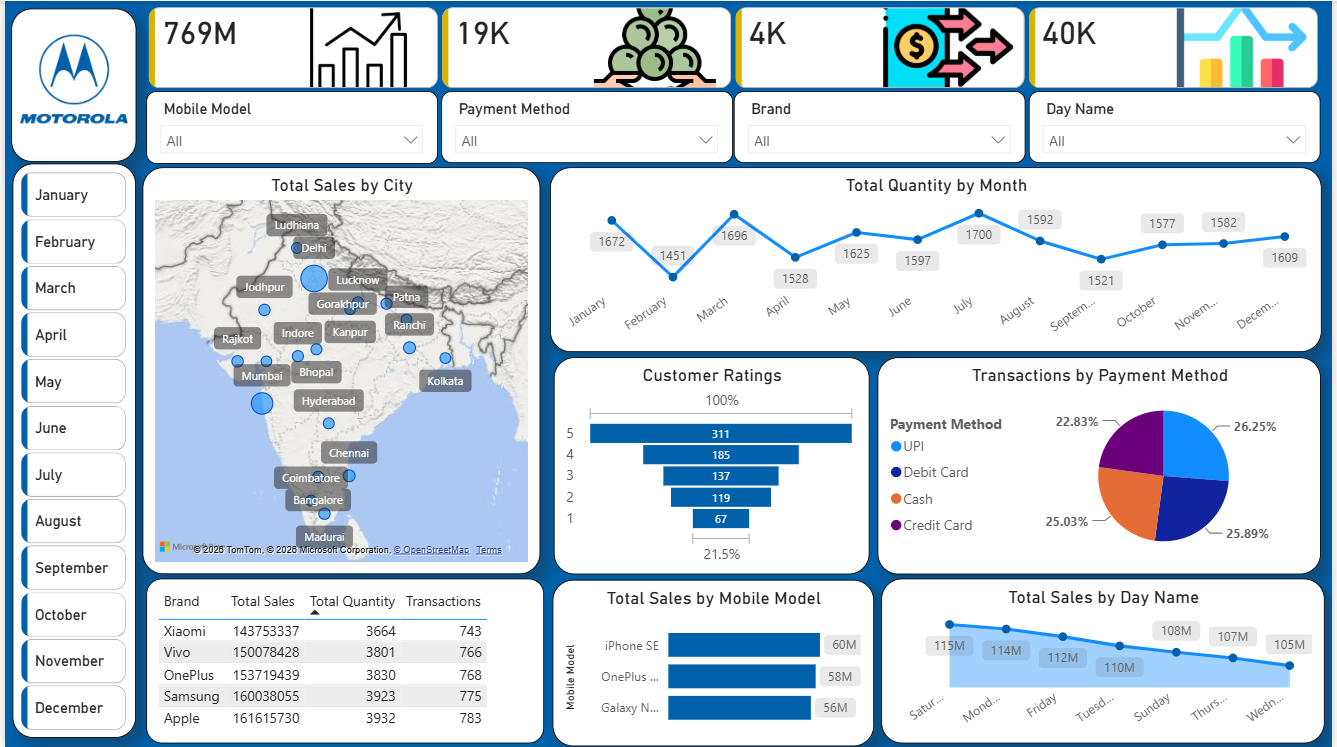

This screenshot's page, from the dashboard's own definition file:
{"tool":"powerbi","page":{"name":"Page 1","canvas":[1280,720],"ordinal":0},"visuals":[{"type":"shape","box":[5.5,6.9,120.8,148.2],"z":0},{"type":"image","box":[9.6,16.5,113.9,116.6],"z":1000},{"type":"shape","box":[6.9,156.4,119.4,554.4],"z":2000},{"type":"advancedSlicerVisual","fields":{"Values":["Sales_Data.Date.Variation.Date Hierarchy.Month"]},"box":[11,160.5,111.1,548.9],"z":3000},{"type":"cardVisual","fields":{"Data":["Sales_Data.Total Sales","Sales_Data.Total Quantity","Sales_Data.Transactions","Sales_Data.Average"]},"box":[134,5.6,1140.1,83.7],"z":4000},{"type":"map","fields":{"Category":["Sales_Data.City"],"Size":["Sales_Data.Total Sales"]},"box":[132.9,160.8,384.1,393.1],"z":5000},{"type":"lineChart","fields":{"Y":["Sales_Data.Total Quantity"],"Category":["Sales_Data.Date.Variation.Date Hierarchy.Month","Sales_Data.Date.Variation.Date Hierarchy.Day"]},"box":[525.9,160.8,744.8,178.7],"z":6000},{"type":"clusteredBarChart","fields":{"Category":["Sales_Data.Mobile Model"],"Y":["Sales_Data.Total Sales"]},"box":[528.3,558.5,310.1,160.5],"z":7000},{"type":"pieChart","fields":{"Category":["Sales_Data.Payment Method"],"Y":["Sales_Data.Transactions"]},"box":[842.5,344.4,428.1,209.9],"z":8000},{"type":"funnel","title":"Customer Ratings","fields":{"Category":["Sales_Data.Customer Ratings"],"Y":["CountNonNull(Sales_Data.Customer Ratings)"]},"box":[529.7,344.4,304.6,209.9],"z":9000},{"type":"areaChart","fields":{"Category":["Sales_Data.Day Name"],"Y":["Sales_Data.Total Sales"]},"box":[845.3,557.1,428.1,159.2],"z":10000},{"type":"tableEx","fields":{"Values":["Sales_Data.Brand","Sales_Data.Total Sales","Sales_Data.Total Quantity","Sales_Data.Transactions"]},"box":[135.8,557.1,384.2,159.2],"z":11000},{"type":"slicer","fields":{"Values":["Sales_Data.Mobile Model"]},"box":[136.2,87.1,281.4,70.3],"z":12000},{"type":"slicer","fields":{"Values":["Sales_Data.Payment Method"]},"box":[421,87.1,281.4,69.2],"z":13000},{"type":"slicer","fields":{"Values":["Sales_Data.Brand"]},"box":[703.5,87.1,281.4,69.2],"z":14000},{"type":"slicer","fields":{"Values":["Sales_Data.Day Name"]},"box":[988.2,87.1,281.4,69.2],"z":15000}]}

Visuals, with their boxes in screenshot pixels (x1, y1, x2, y2), scaled from the page's 1280x720 canvas onto the 1337x747 screenshot:
shape: 6,7,132,161
image: 10,17,129,138
shape: 7,162,132,737
advancedSlicerVisual - Sales_Data.Date.Variation.Date Hierarchy.Month: 11,167,128,736
cardVisual - Sales_Data.Total Sales x Sales_Data.Total Quantity: 140,6,1331,93
map - Sales_Data.City x Sales_Data.Total Sales: 139,167,540,575
lineChart - Sales_Data.Total Quantity x Sales_Data.Date.Variation.Date Hierarchy.Month: 549,167,1327,352
clusteredBarChart - Sales_Data.Mobile Model x Sales_Data.Total Sales: 552,579,876,746
pieChart - Sales_Data.Payment Method x Sales_Data.Transactions: 880,357,1327,575
"Customer Ratings" funnel: 553,357,871,575
areaChart - Sales_Data.Day Name x Sales_Data.Total Sales: 883,578,1330,743
tableEx - Sales_Data.Brand x Sales_Data.Total Sales: 142,578,543,743
slicer - Sales_Data.Mobile Model: 142,90,436,163
slicer - Sales_Data.Payment Method: 440,90,734,162
slicer - Sales_Data.Brand: 735,90,1029,162
slicer - Sales_Data.Day Name: 1032,90,1326,162
